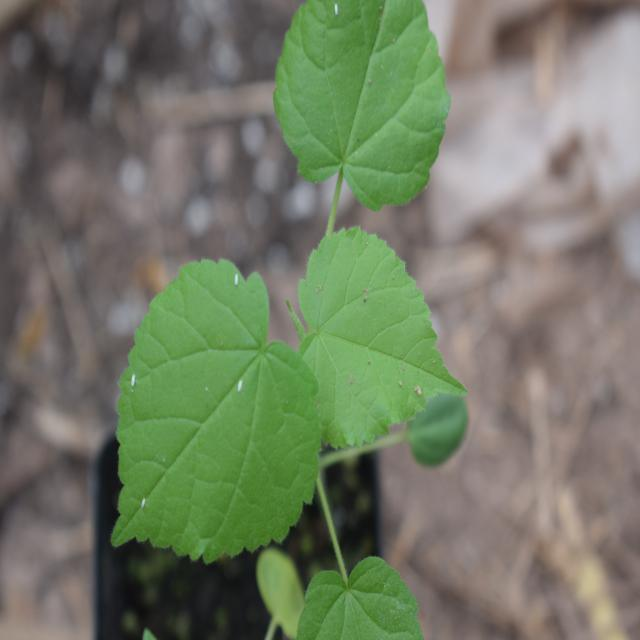abutilon theophrasti: (118, 7, 505, 614)
